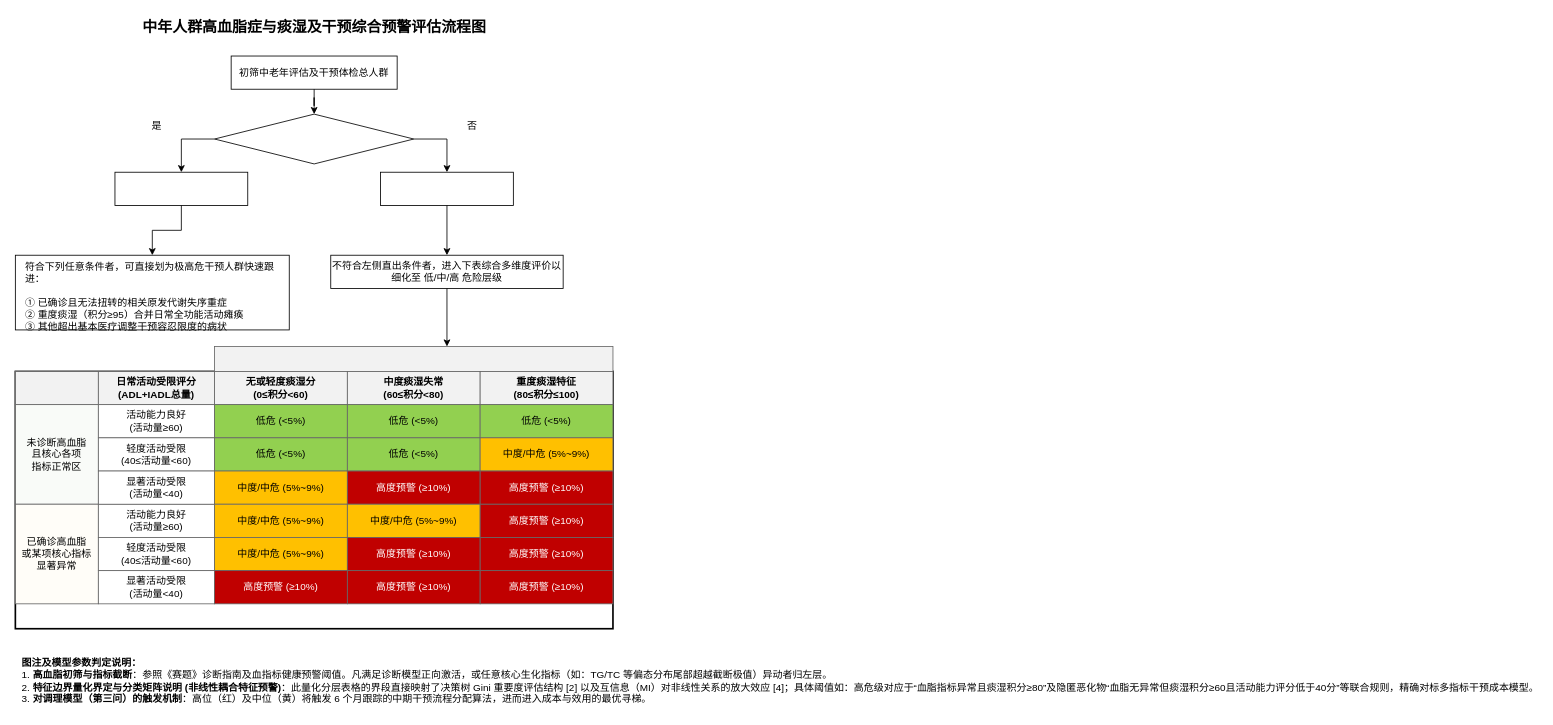
The diagram is 1553 pixels wide and 725 high, and some of its shapes have lost their labels. The centre of each missing label's shape, as x and y in pixels:
"二级强化预防流程" goes at (181,188).
"是否发生过相关的危急重症？ （极严重的冠病、不可逆的躯体衰败）" goes at (314,138).
"核心血脂状态 分层" goes at (56,388).
"痰湿体质积水平分层 (分)" goes at (413,358).
"综合等级评估与日常干预" goes at (446,188).
